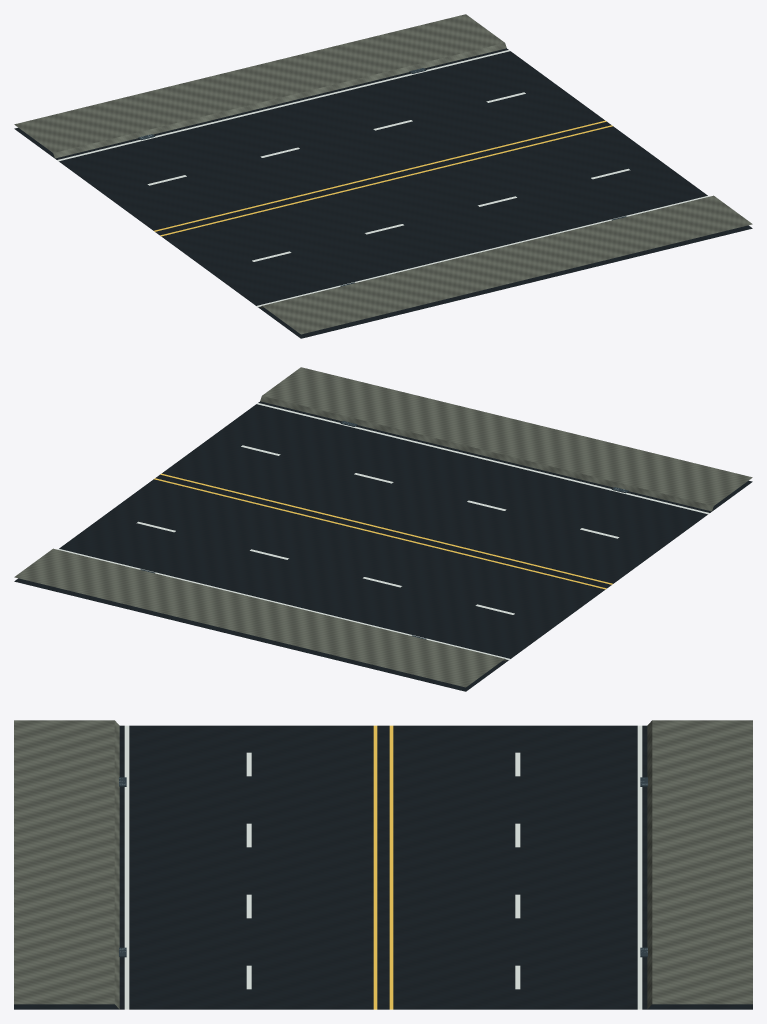
Rendered from road_collector_4lane_16m_LOD0.glb.
The picture shows the model from 3 angles, top to bottom: view 1: azimuth 30°, elevation 25°; view 2: azimuth 150°, elevation 25°; view 3: azimuth 270°, elevation 25°; orthographic projection. The views are drawn at different scales.
Parts seen in each view (by area): view 1: road_collector_4lane_16m__surface, road_collector_4lane_16m__markings; view 2: road_collector_4lane_16m__surface, road_collector_4lane_16m__markings; view 3: road_collector_4lane_16m__surface, road_collector_4lane_16m__markings.
Boxes of the visible parts, box(x1,y1,x2,y2) form: road_collector_4lane_16m__surface: box(14, 14, 752, 338); road_collector_4lane_16m__markings: box(57, 50, 708, 306); road_collector_4lane_16m__surface: box(14, 367, 752, 691); road_collector_4lane_16m__markings: box(58, 403, 709, 659); road_collector_4lane_16m__surface: box(14, 720, 752, 1009); road_collector_4lane_16m__markings: box(124, 725, 642, 1009).
Bounding box in the file's own units: 16 × 0.145 × 17.6.
7 materials, 3 textured.
